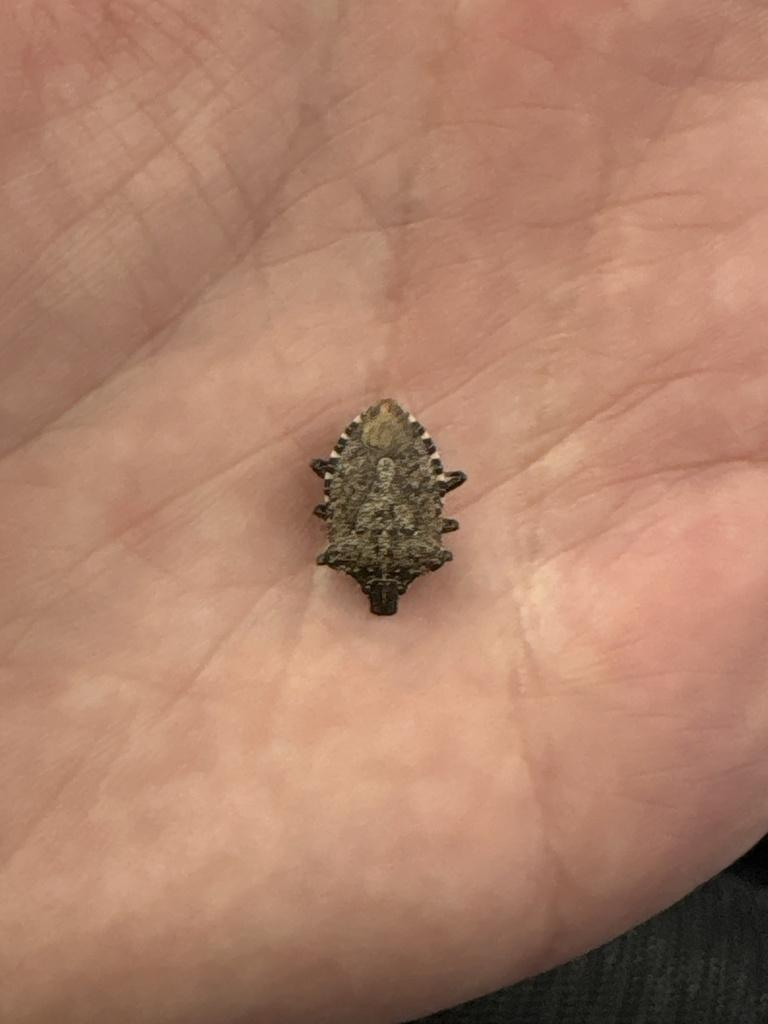stink_bugs: (265, 358, 512, 654)
